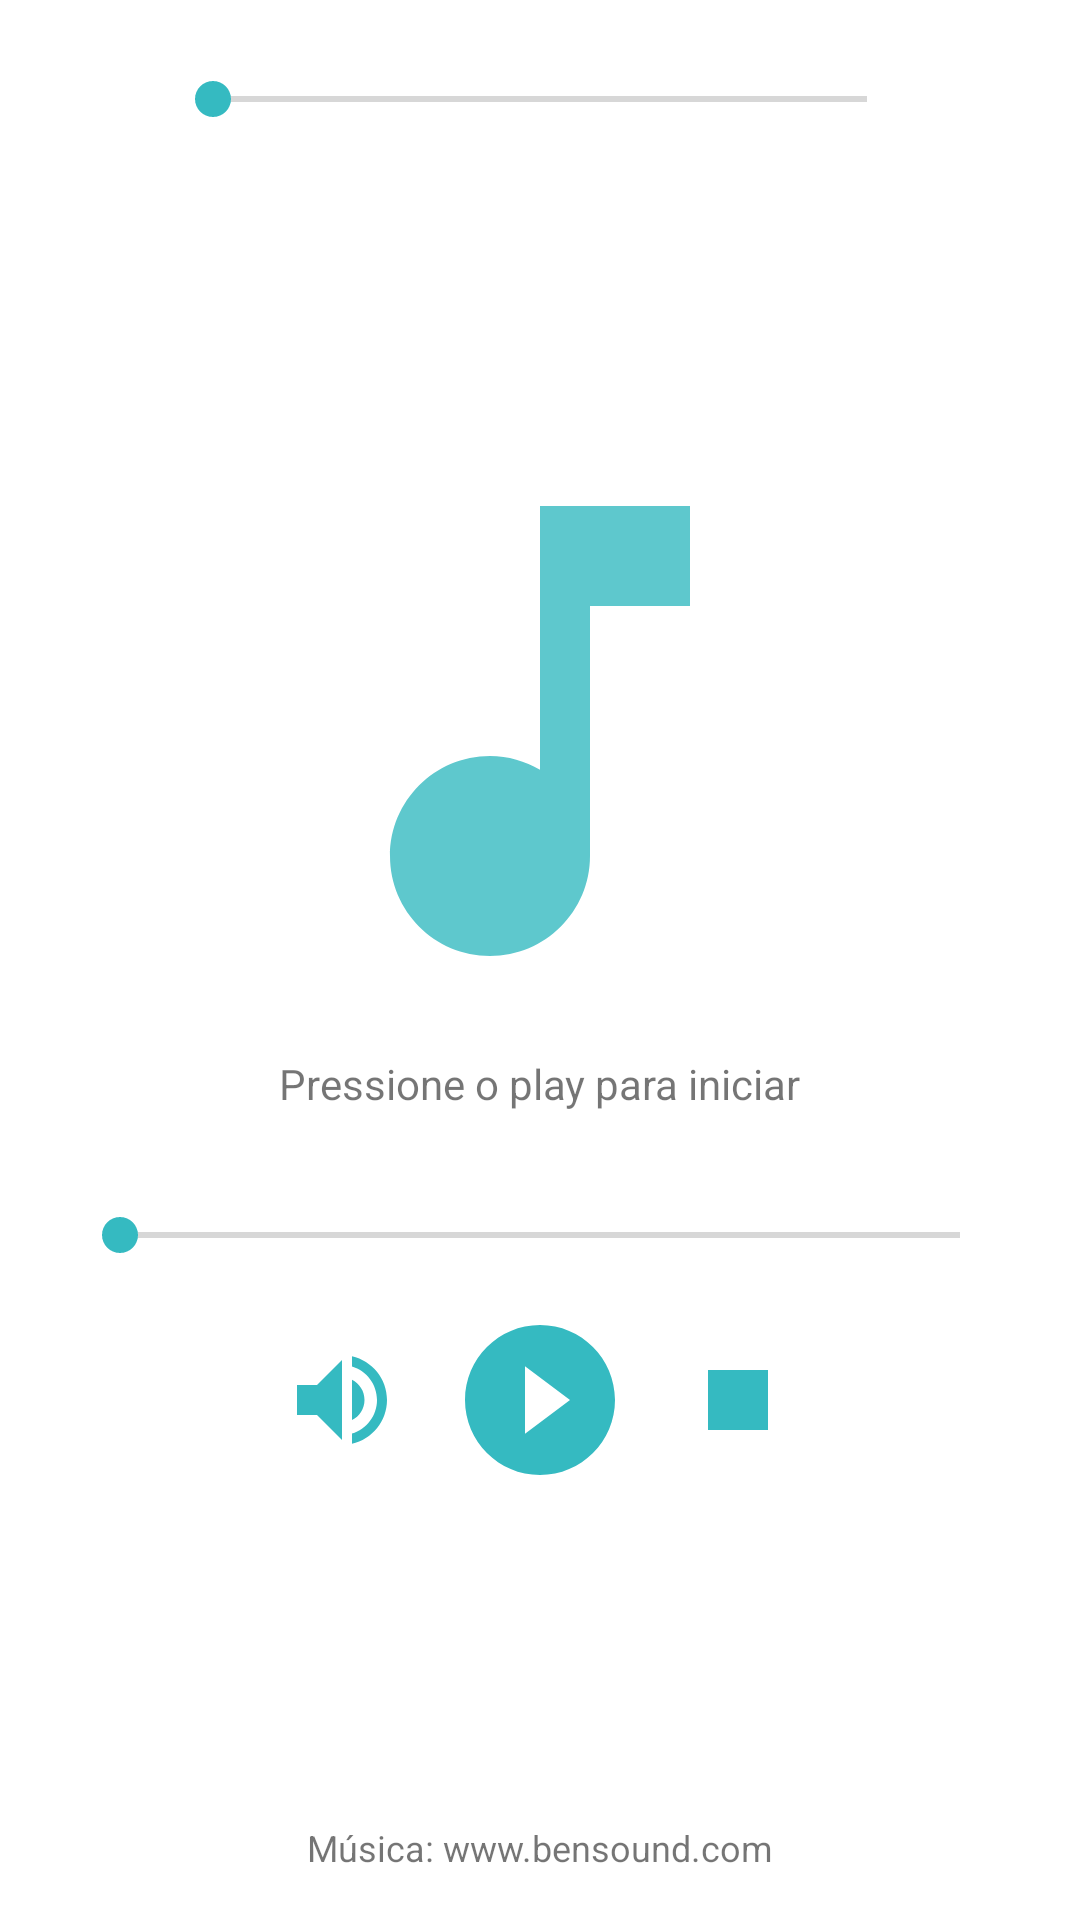

Named icons in this screenshot (1080×1920) and their centers, (x=x, y=y):
play: (x=540, y=1400)
volume: (x=342, y=1400)
